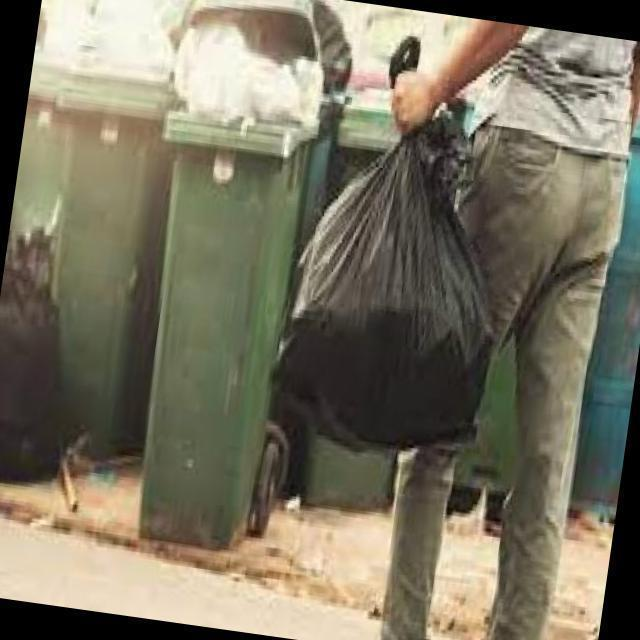Garbage_Bag: (257, 22, 538, 470)
